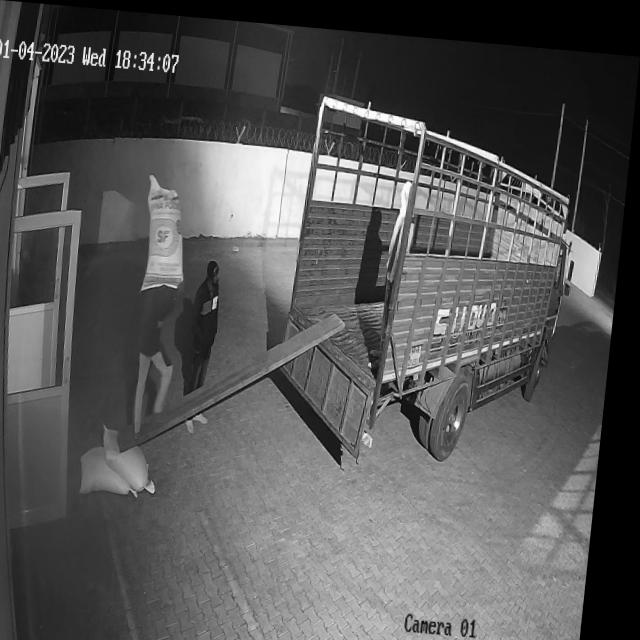sack: (146, 172, 197, 289), (106, 421, 170, 489), (88, 442, 152, 497)
